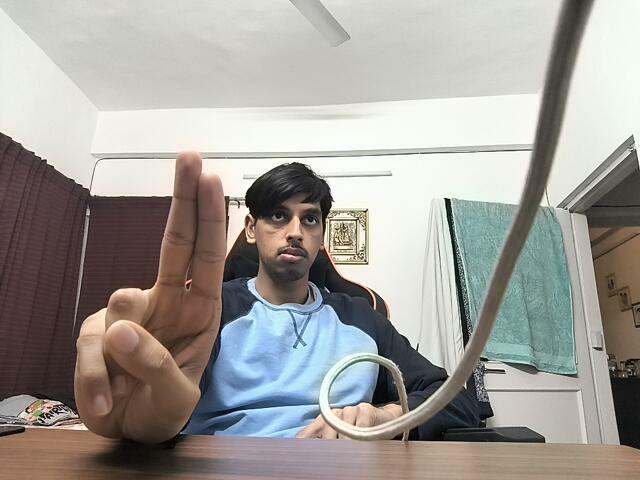FORWARD: (58, 138, 233, 452)
